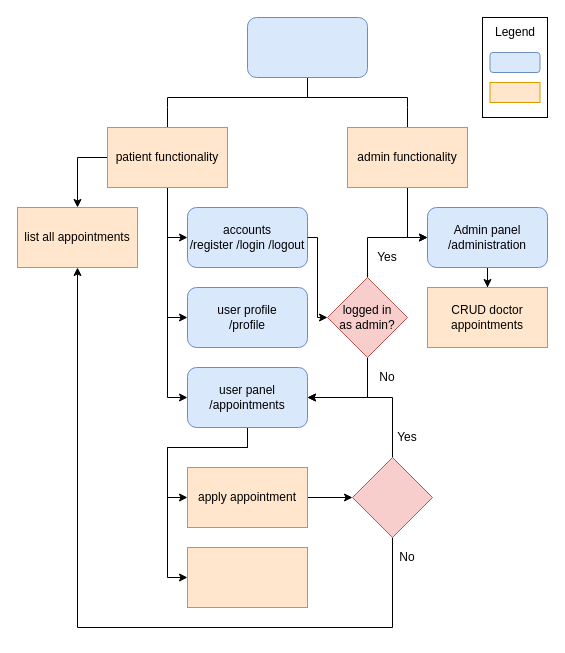
Some shapes in this 565 by 653 pixel diagram are drawn without their labels. The shapes that lost their labels are listed below. From the top down, each one's centre as x and y in pixels, then its label:
At (307,47): "Homepage /".
At (514,62): "page".
At (514,92): "feature".
At (392,497): "doctor is fully booked?".
At (247,577): "cancel my appointment".
